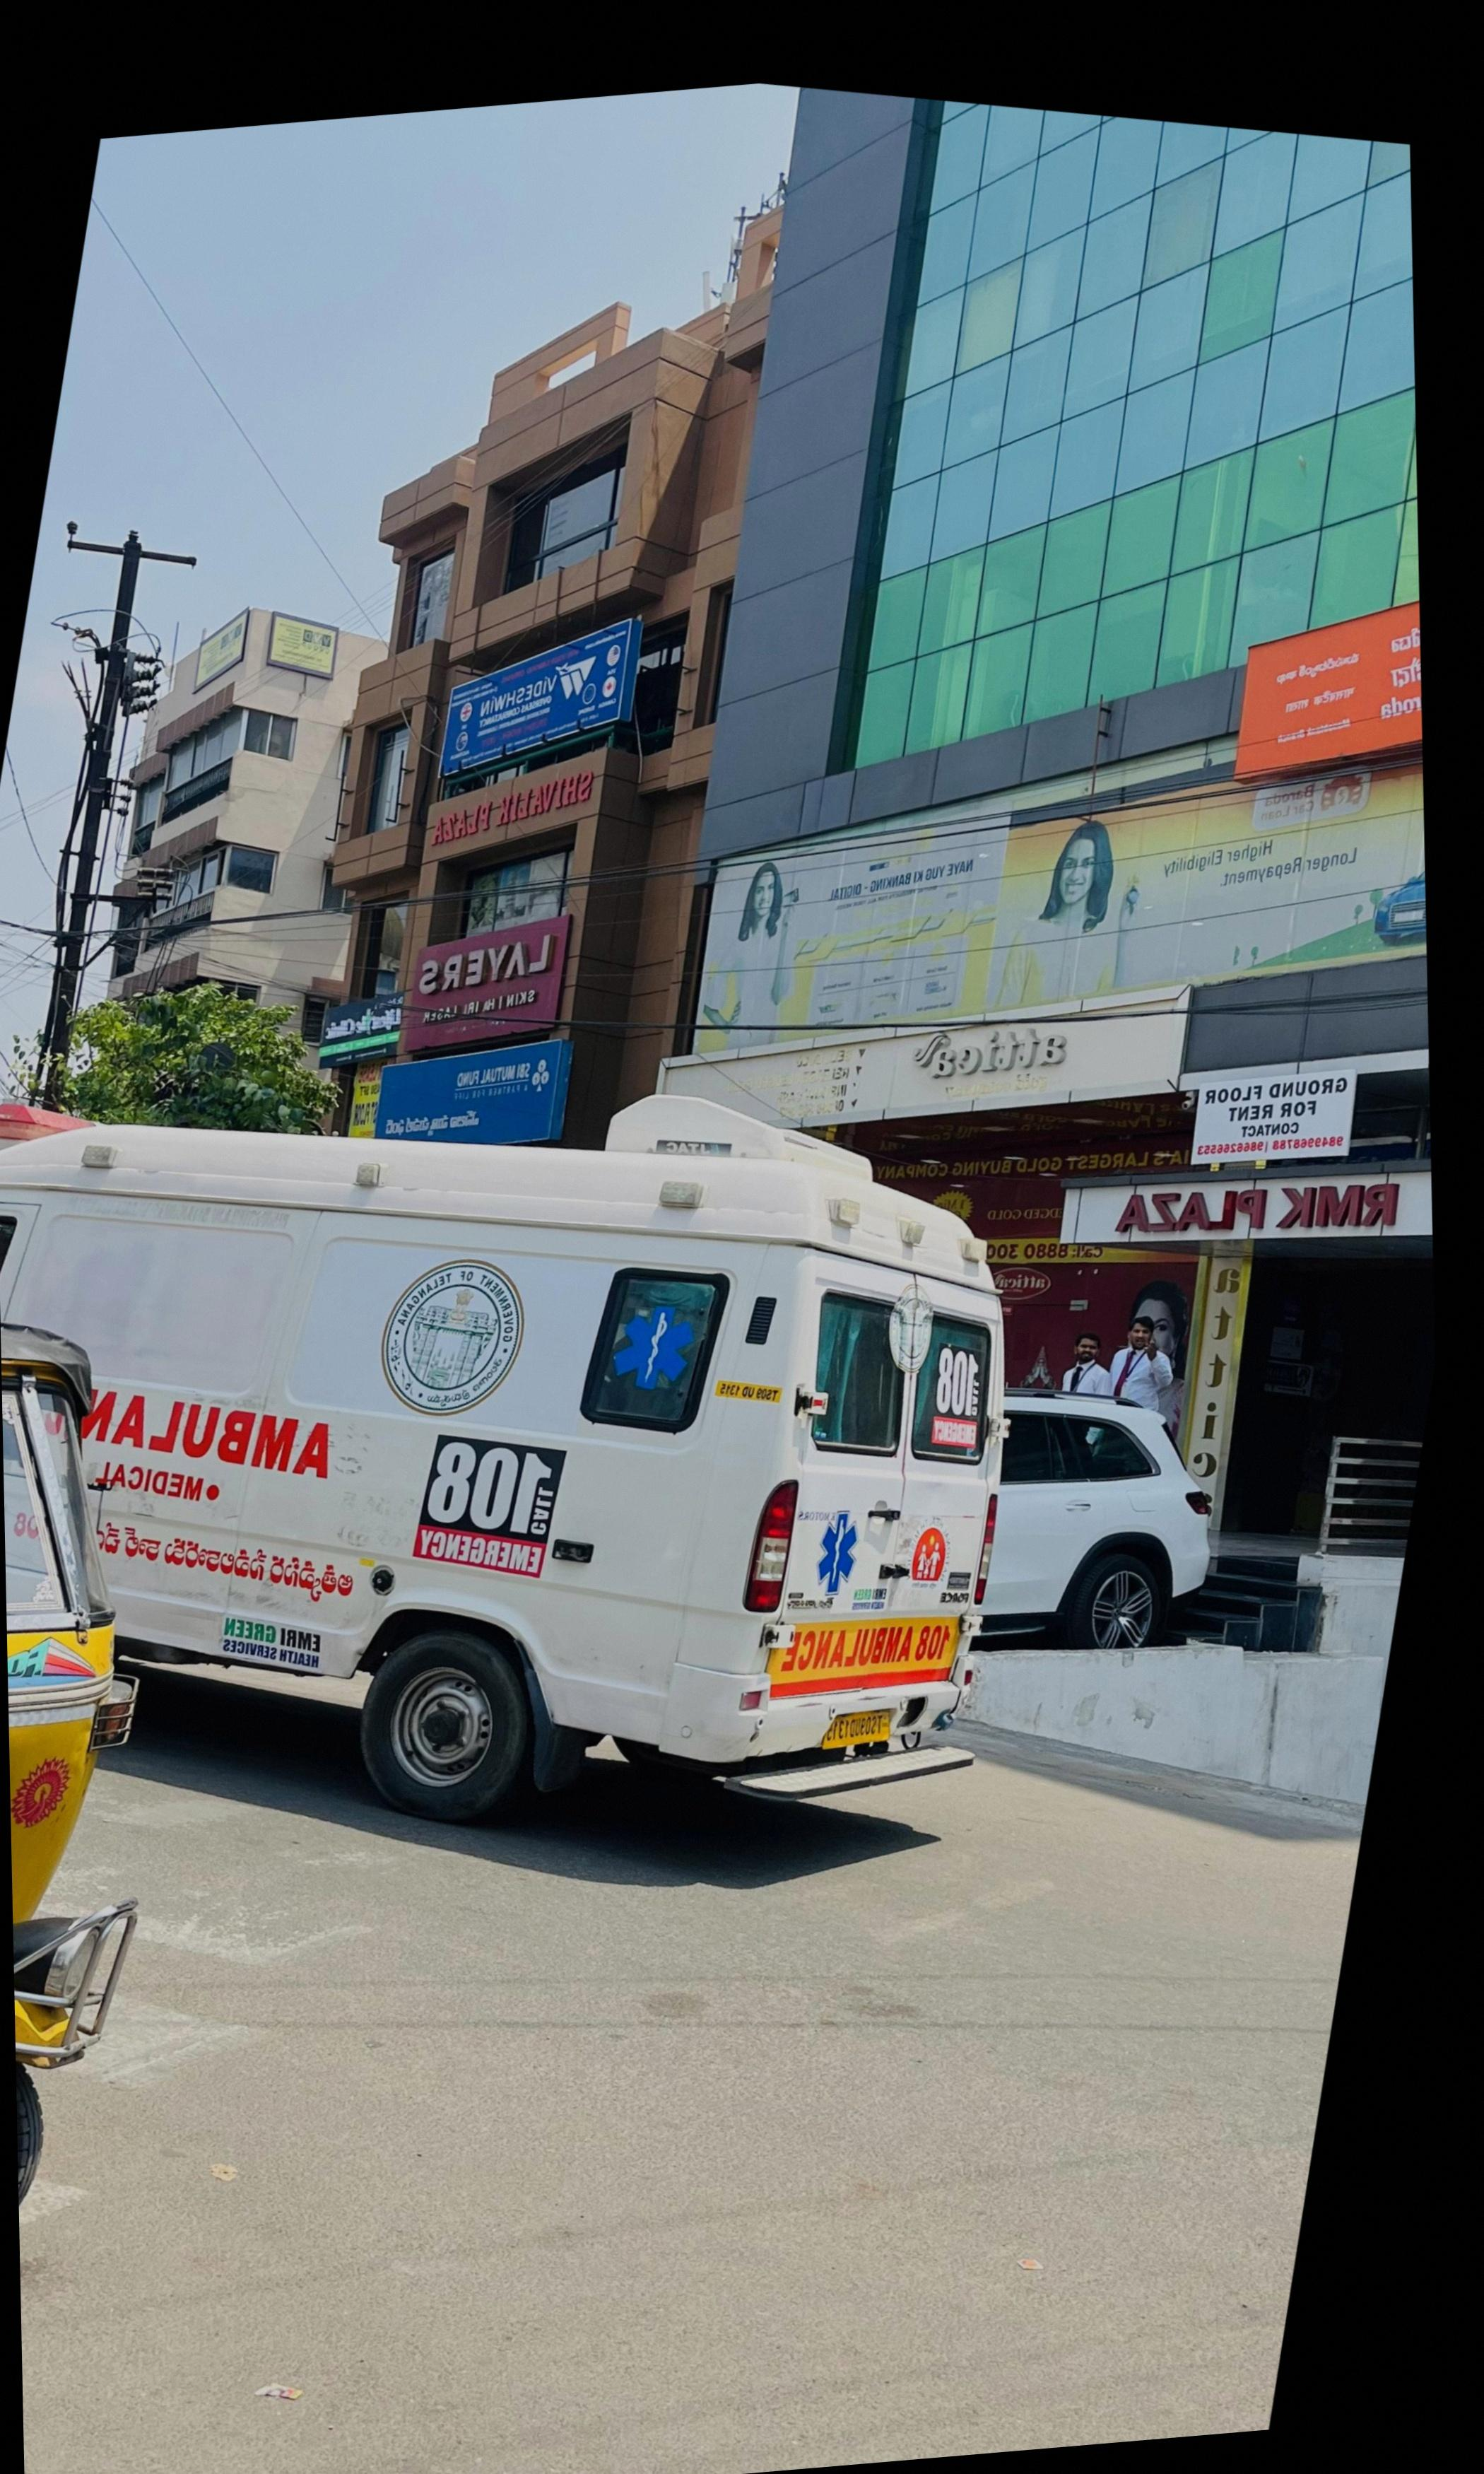ambulance: (0, 1087, 1009, 1827)
